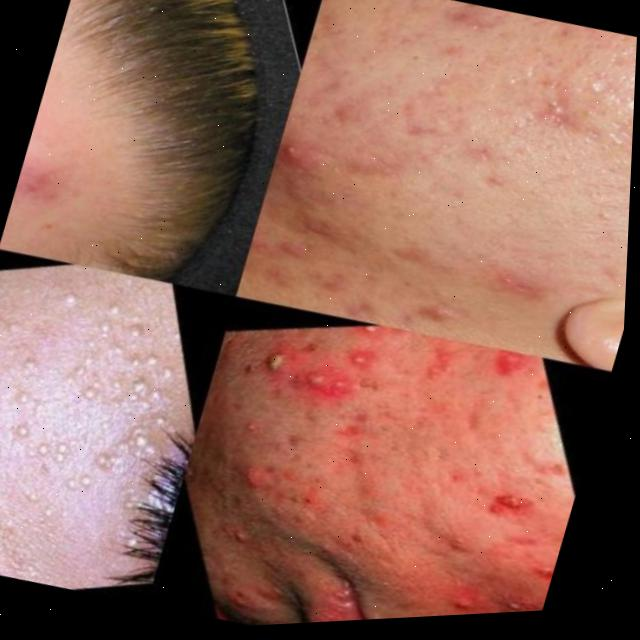Acne: (179, 290, 537, 626), (319, 0, 639, 254), (0, 279, 155, 535), (1, 154, 71, 244)
